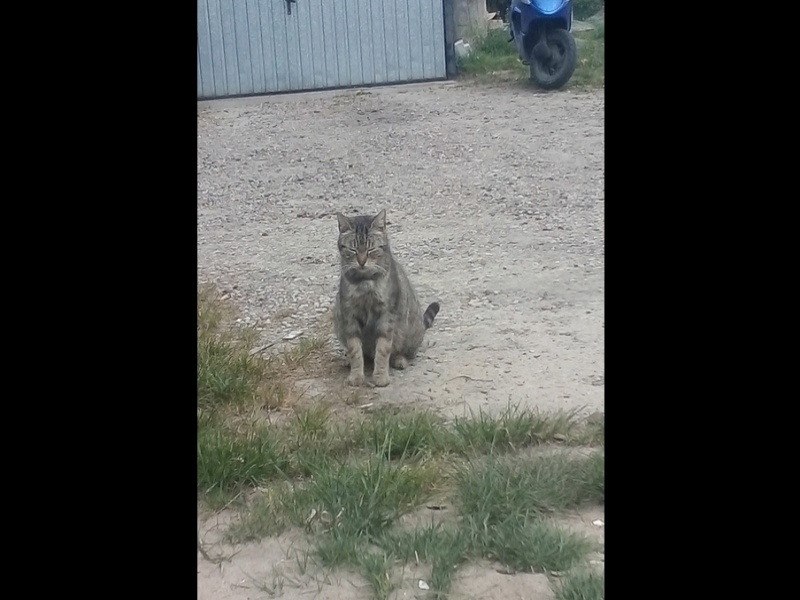cat: (325, 208, 445, 393)
